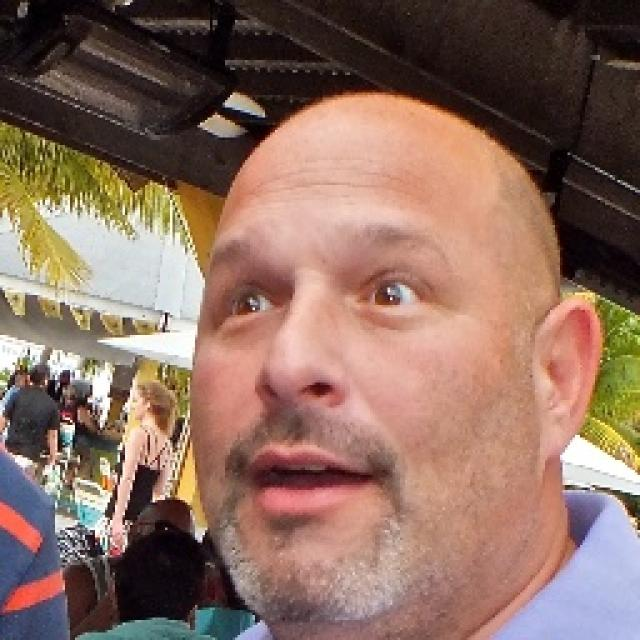earlobe: (533, 294, 605, 466)
